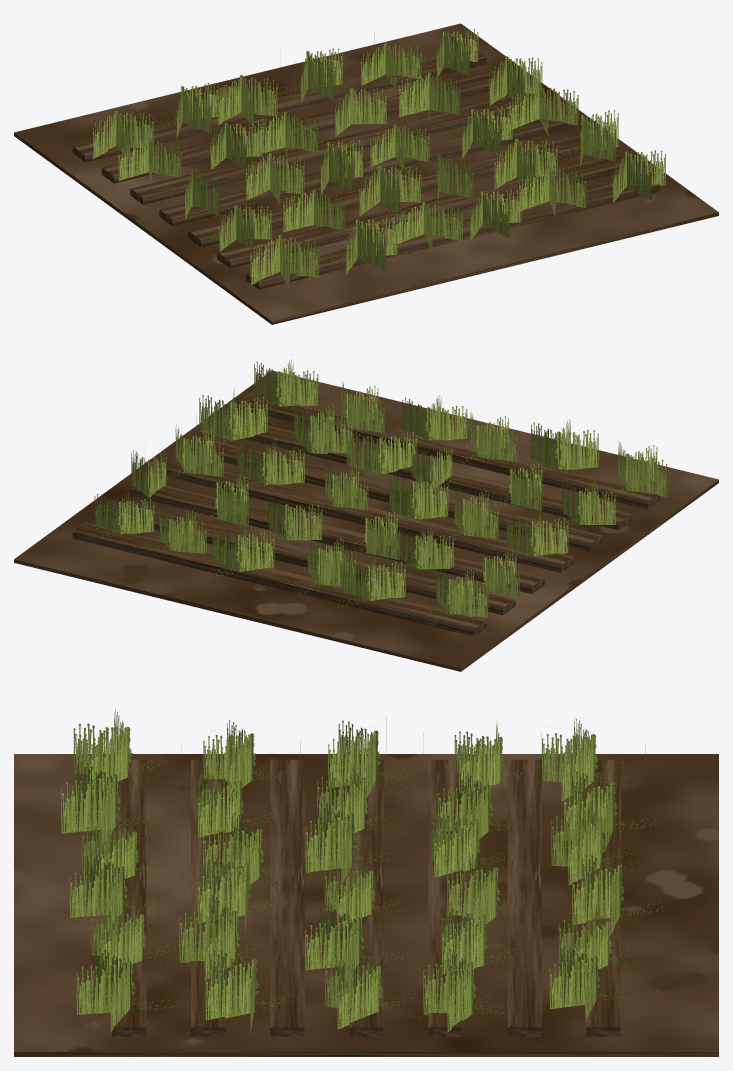
The model's file is nodo-farm-e2-ChNFRKhE.glb.
The picture shows the model from 3 angles, top to bottom: view 1: azimuth 30°, elevation 25°; view 2: azimuth 150°, elevation 25°; view 3: azimuth 270°, elevation 25°; orthographic projection. The views are drawn at different scales.
Parts seen in each view (by area): view 1: suelo_y_surcos, cultivo; view 2: suelo_y_surcos, cultivo; view 3: suelo_y_surcos, cultivo.
Part boxes in pixels (left/top/right/bottom): suelo_y_surcos: left=14, top=23, right=718, bottom=324; cultivo: left=81, top=29, right=665, bottom=289; suelo_y_surcos: left=14, top=370, right=718, bottom=671; cultivo: left=86, top=359, right=667, bottom=626; suelo_y_surcos: left=14, top=754, right=718, bottom=1056; cultivo: left=61, top=709, right=667, bottom=1034.
Size of the model in its own units: 47.2 by 5.21 by 47.2.
2 materials, 2 textured.
